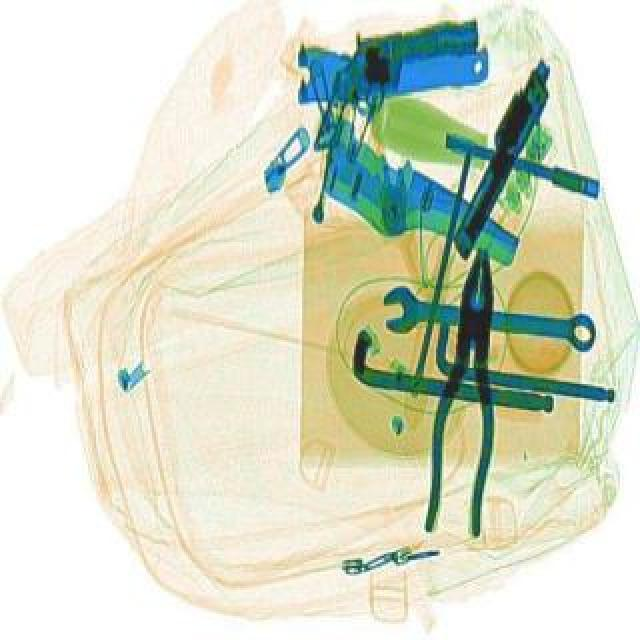gun: (308, 18, 486, 224), (436, 52, 564, 260)
scissors: (378, 282, 600, 354)
wrench: (420, 246, 516, 538)
